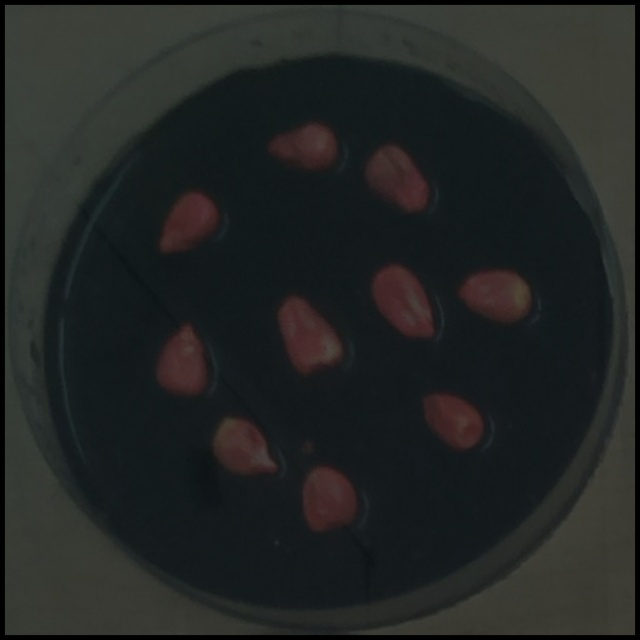Zea mays: (268, 289, 349, 385), (364, 257, 444, 344), (358, 137, 437, 219), (150, 183, 226, 262), (203, 410, 283, 483), (148, 318, 215, 403), (453, 264, 537, 330), (297, 459, 365, 539), (414, 386, 490, 457), (258, 119, 343, 182)
